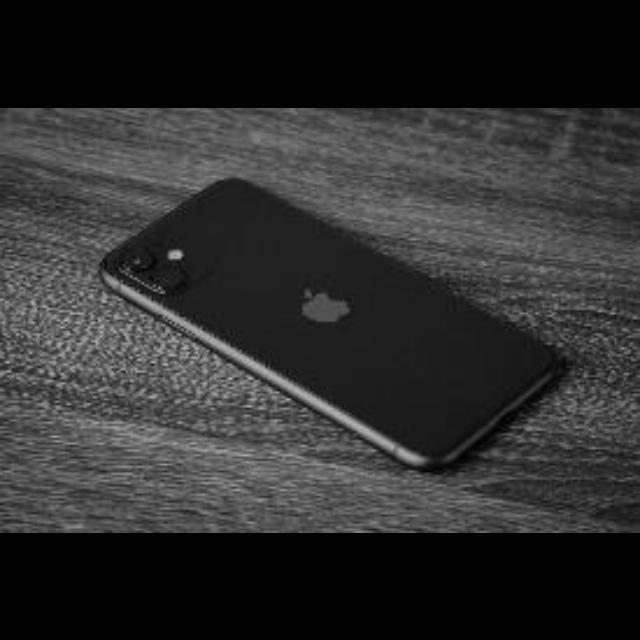fake: (51, 155, 631, 477)
